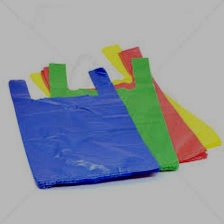plastic_bag: (27, 40, 223, 163), (36, 42, 210, 169), (8, 60, 163, 191), (42, 53, 184, 177)
